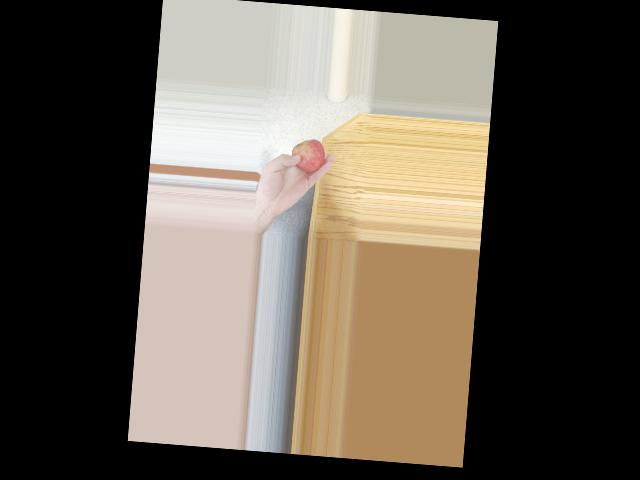apple: (287, 135, 327, 180)
